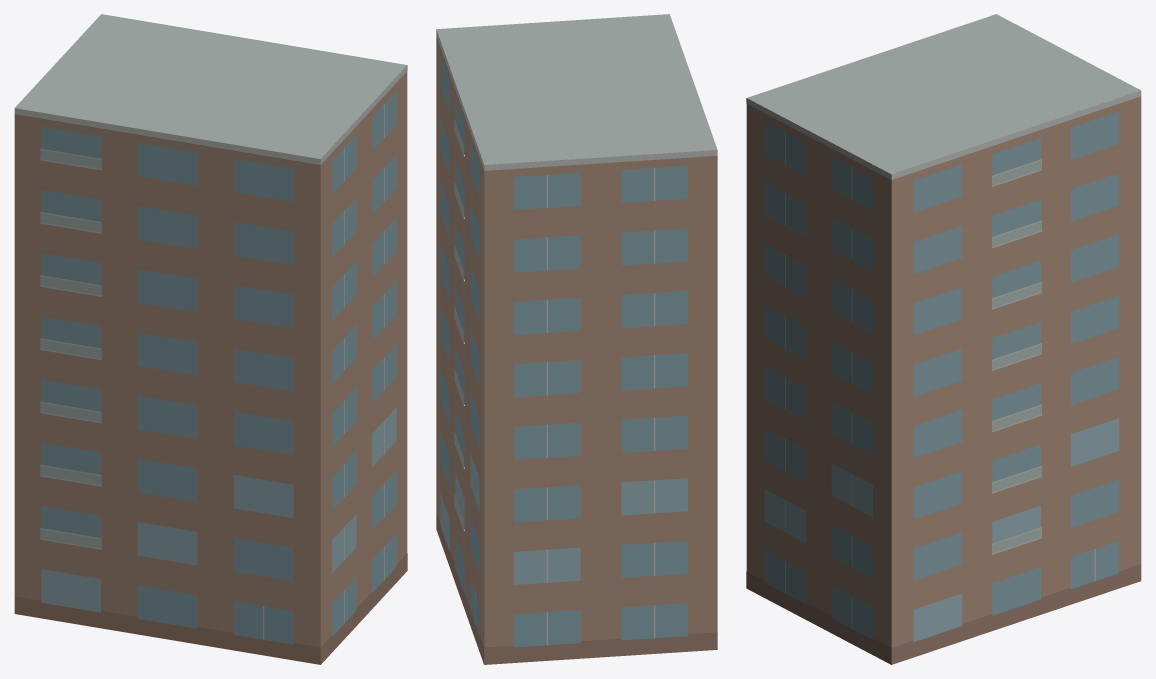
File: survey-upis-33039941.glb
3 renders of one model, left to right at view 1: azimuth 30°, elevation 25°; view 2: azimuth 150°, elevation 25°; view 3: azimuth 270°, elevation 25°, orthographic. The views are drawn at different scales.
Parts seen in each view (by area): view 1: survey-upis-33039941.tmp; view 2: survey-upis-33039941.tmp; view 3: survey-upis-33039941.tmp.
Boxes of the visible parts, x1=… form: survey-upis-33039941.tmp: x1=14, y1=14, x2=407, y2=664; survey-upis-33039941.tmp: x1=436, y1=14, x2=717, y2=664; survey-upis-33039941.tmp: x1=746, y1=14, x2=1141, y2=664.
Bounding box in the file's own units: 14.66 × 20.9 × 15.25.
